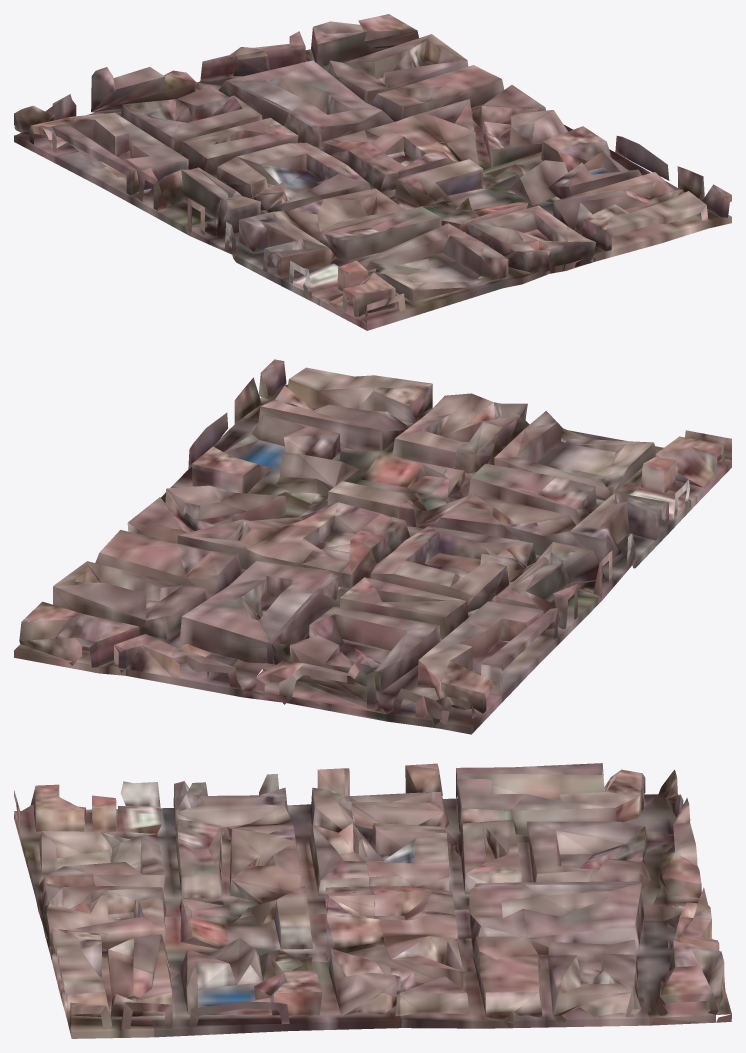
3 renders of one model, top to bottom at view 1: azimuth 30°, elevation 25°; view 2: azimuth 150°, elevation 25°; view 3: azimuth 270°, elevation 25°, orthographic. The views are drawn at different scales.
Parts seen in each view (by area): view 1: Mesh_0; view 2: Mesh_0; view 3: Mesh_0.
Boxes of the visible parts, x1,y1,x2,y2 form: Mesh_0: (14, 14, 731, 330); Mesh_0: (14, 359, 731, 734); Mesh_0: (14, 763, 731, 1038).
Size of the model in its own units: 532 by 59.8 by 659.
2 materials, 2 textured.
